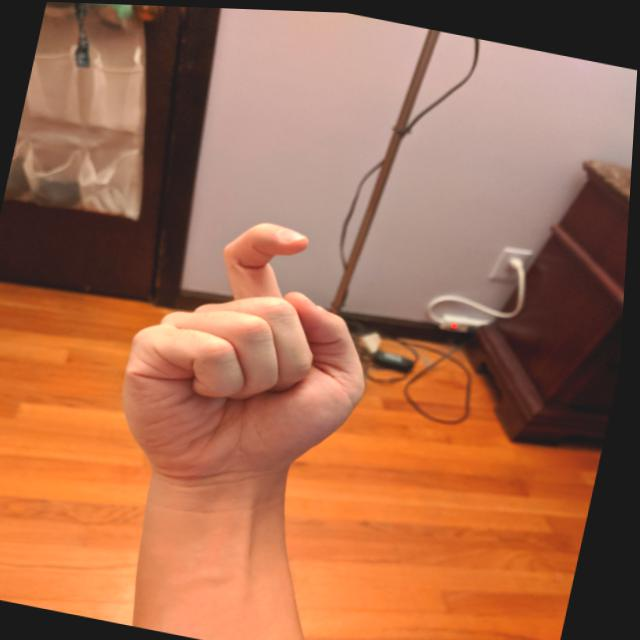X: (97, 193, 412, 517)
